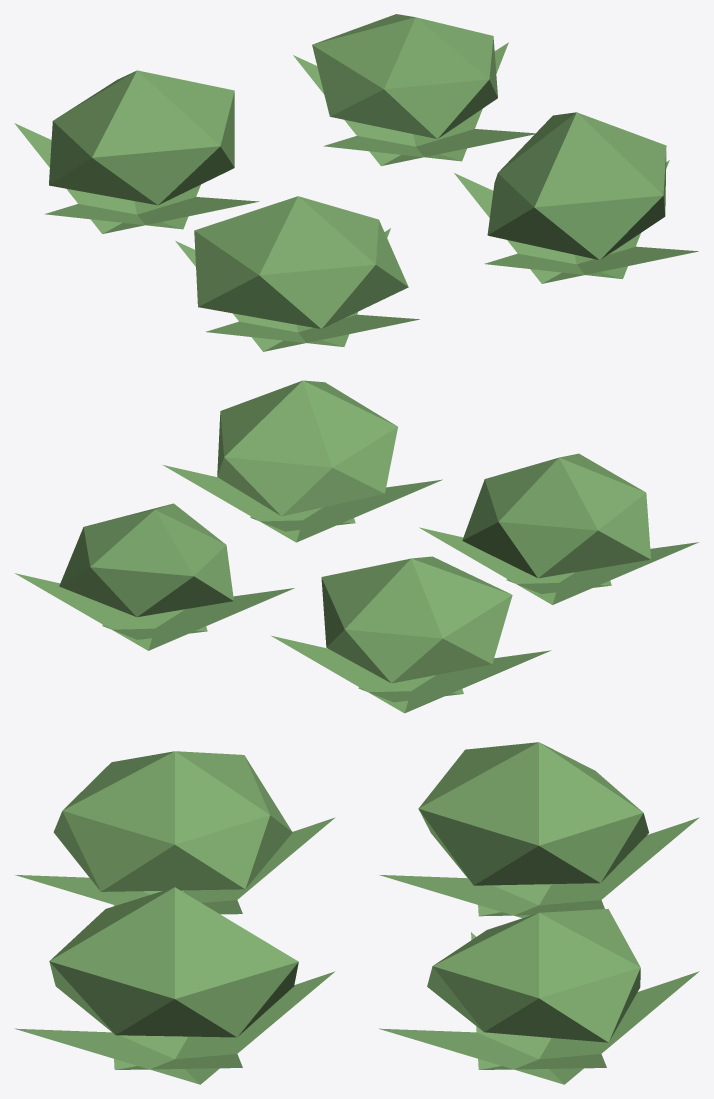
Rendered from legumes.glb.
3 renders of one model, top to bottom at view 1: azimuth 30°, elevation 25°; view 2: azimuth 150°, elevation 25°; view 3: azimuth 270°, elevation 25°, orthographic. The views are drawn at different scales.
Visible parts, largest first — view 1: legumes; view 2: legumes; view 3: legumes.
Boxes of the visible parts, left/top/right/bottom form: legumes: left=14, top=14, right=698, bottom=351; legumes: left=15, top=380, right=699, bottom=713; legumes: left=14, top=742, right=699, bottom=1084.
Bounding box in the file's own units: 0.9421 × 0.2609 × 0.9421.
1 material, 1 textured.
